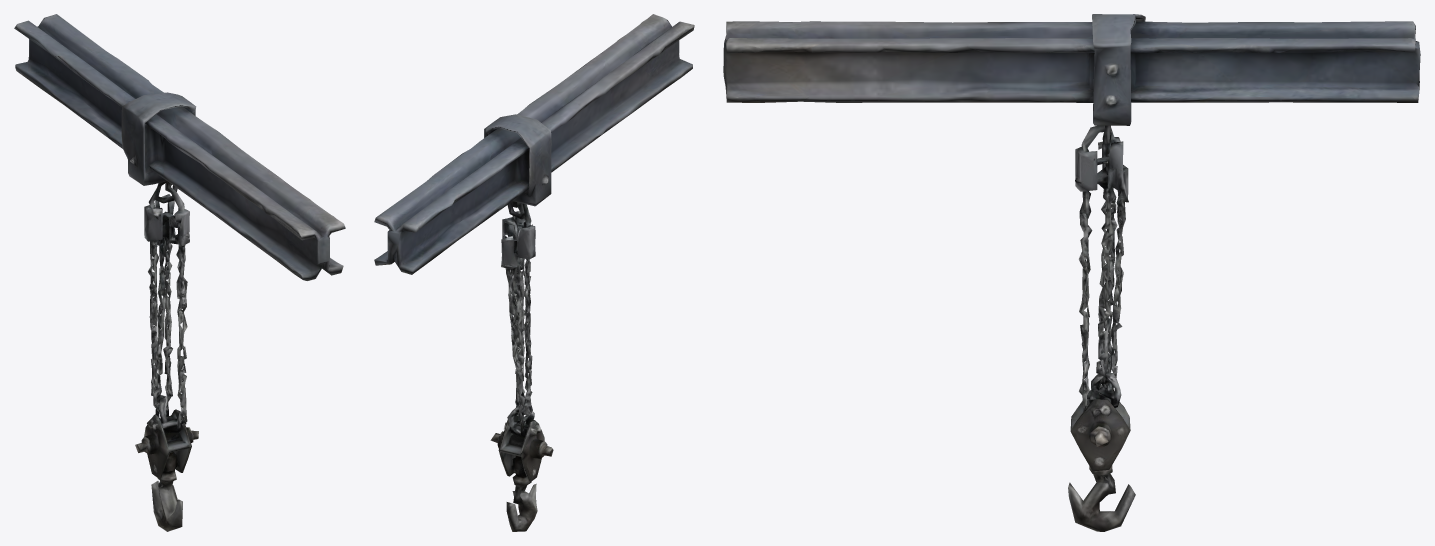
Rendered from gr_hoist.glb.
The picture shows the model from 3 angles, left to right: view 1: azimuth 30°, elevation 25°; view 2: azimuth 150°, elevation 25°; view 3: azimuth 270°, elevation 25°; orthographic projection. The views are drawn at different scales.
Visible parts, largest first — view 1: tripo_node_4af856f4-aea8-415d-8ec7-78ed1dec8b39; view 2: tripo_node_4af856f4-aea8-415d-8ec7-78ed1dec8b39; view 3: tripo_node_4af856f4-aea8-415d-8ec7-78ed1dec8b39.
Part boxes in pixels (x1=…): tripo_node_4af856f4-aea8-415d-8ec7-78ed1dec8b39: x1=14, y1=14, x2=345, y2=531; tripo_node_4af856f4-aea8-415d-8ec7-78ed1dec8b39: x1=374, y1=14, x2=694, y2=531; tripo_node_4af856f4-aea8-415d-8ec7-78ed1dec8b39: x1=723, y1=14, x2=1420, y2=531.
Bounding box in the file's own units: 0.1286 × 0.8122 × 1.
Materials: 1 (1 with a texture image).
